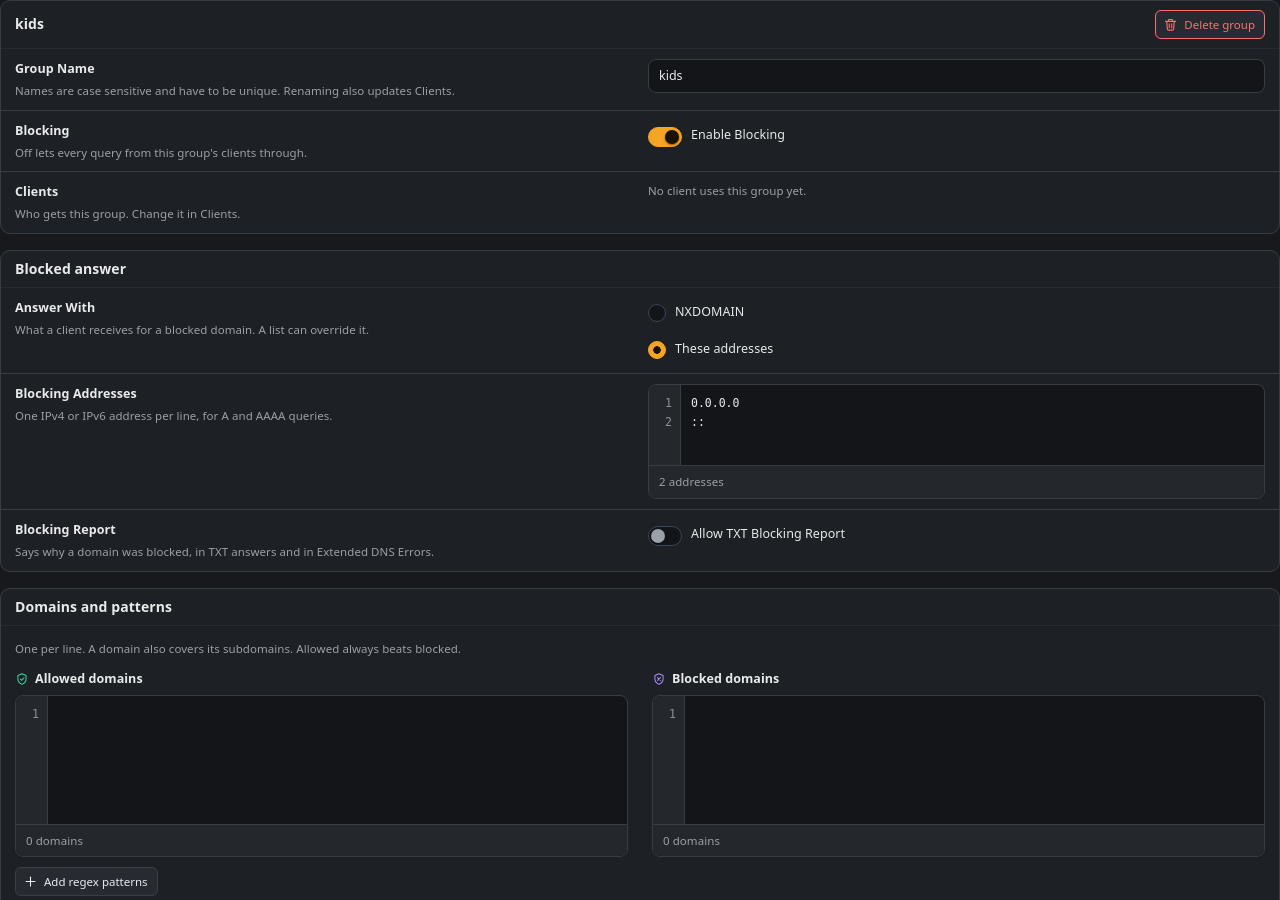
Test: domains and patterns › hides the regex while both are empty, and Add regex patterns shows them
This screenshot has width=1280, height=900.
Expected: the field labelled "Allowed regex" is not shown
Expected: the field labelled "Blocked regex" is not shown
Click the button "Add regex patterns" at (86, 882), box x1=15 y1=867 x2=158 y2=896
(page scrolled)
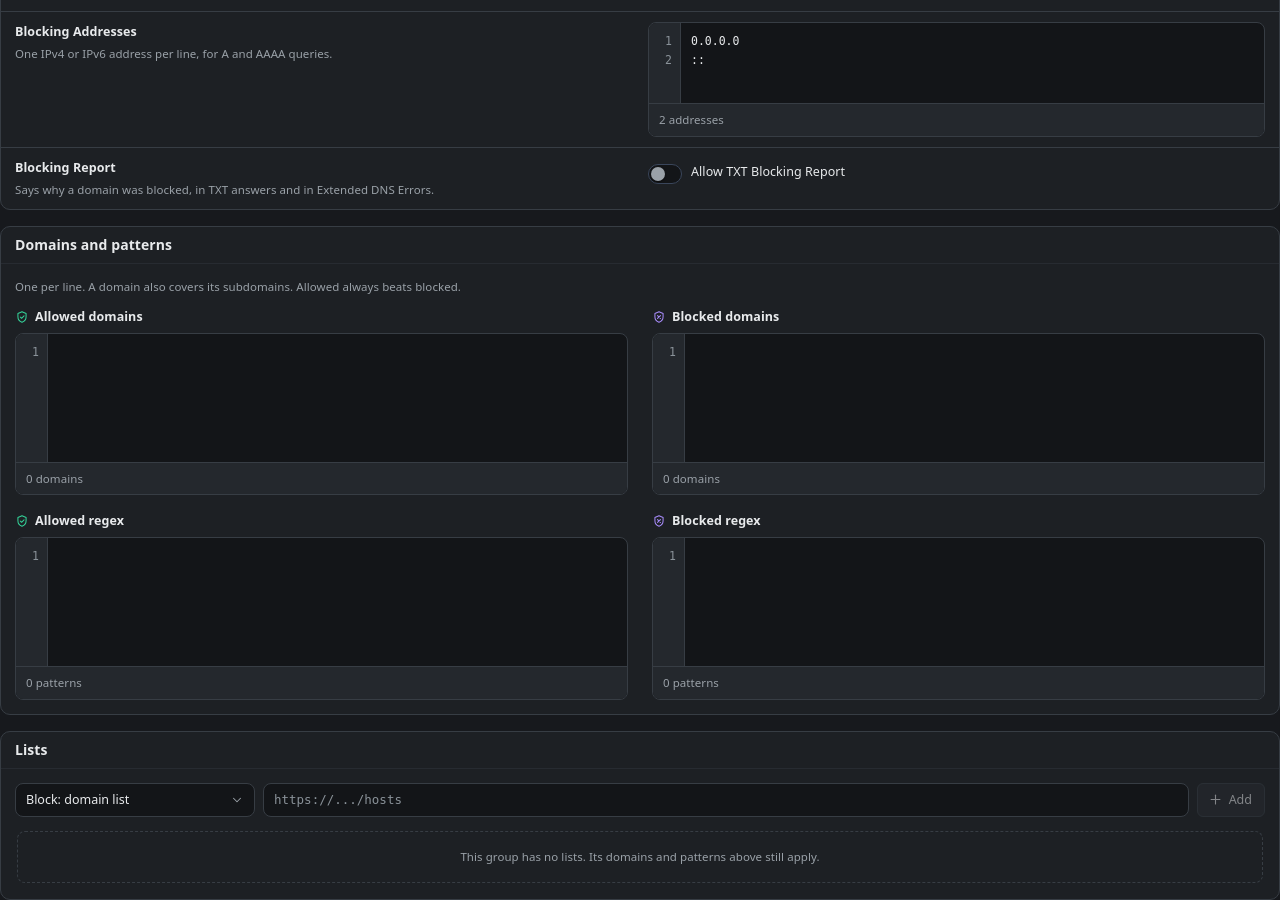
Expected: the text box labelled "Allowed regex" is shown, x1=48 y1=538 x2=627 y2=666
Expected: the text box labelled "Blocked regex" is shown, x1=685 y1=538 x2=1264 y2=666
Expected: the button "Add regex patterns" is gone
